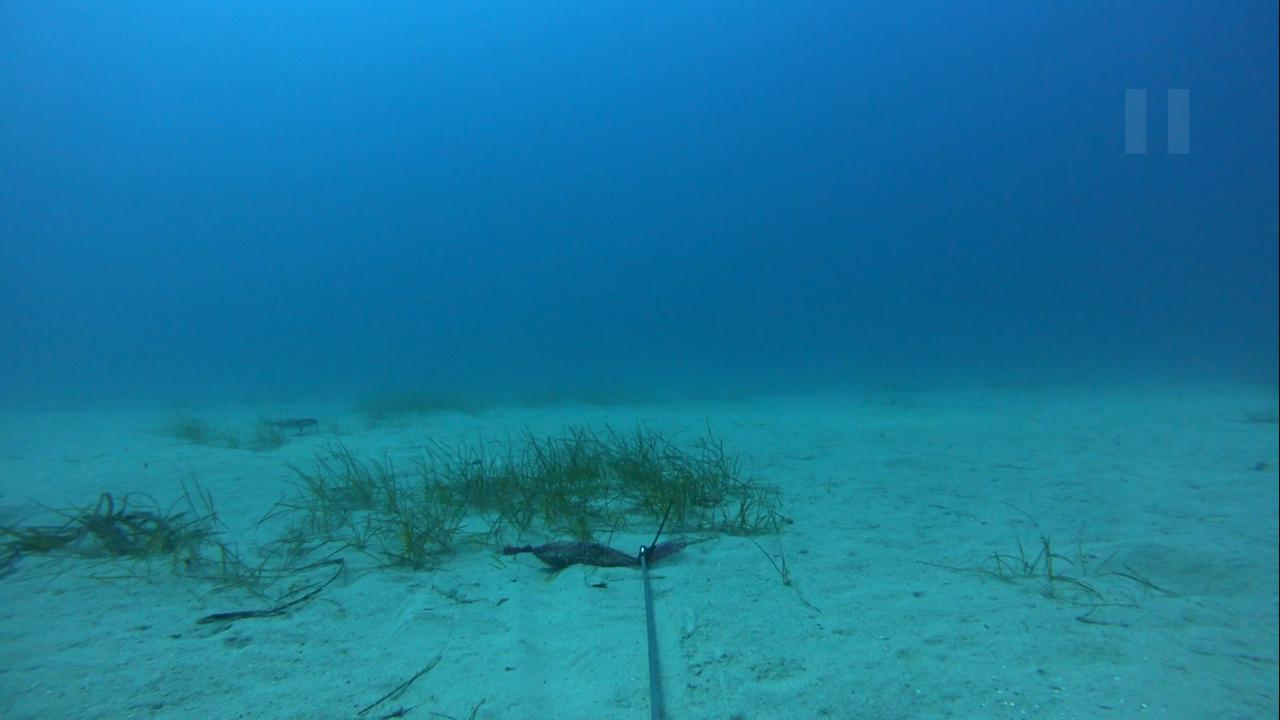dactylopterus: (260, 411, 325, 436)
